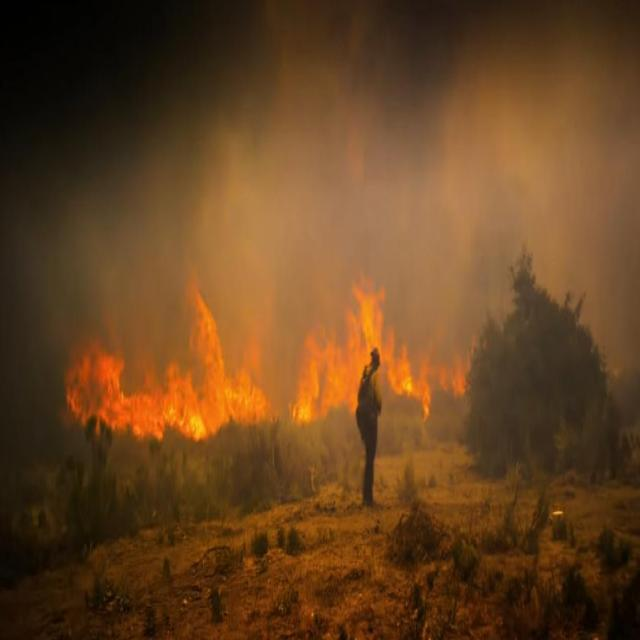Fire: (383, 320, 472, 402), (188, 278, 232, 442), (294, 327, 358, 425), (122, 364, 188, 436), (66, 348, 122, 431), (231, 362, 278, 422), (348, 278, 382, 350)
Smoke: (0, 0, 506, 279), (505, 0, 639, 252), (1, 283, 66, 449), (68, 278, 188, 354), (592, 256, 640, 371), (232, 276, 292, 362), (383, 276, 503, 316), (290, 280, 348, 326)
